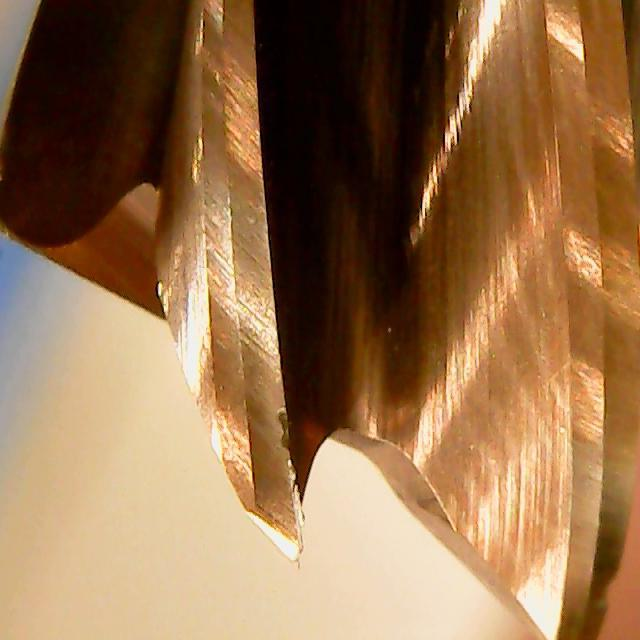Tool-wear-class-1: (164, 236, 326, 564)
